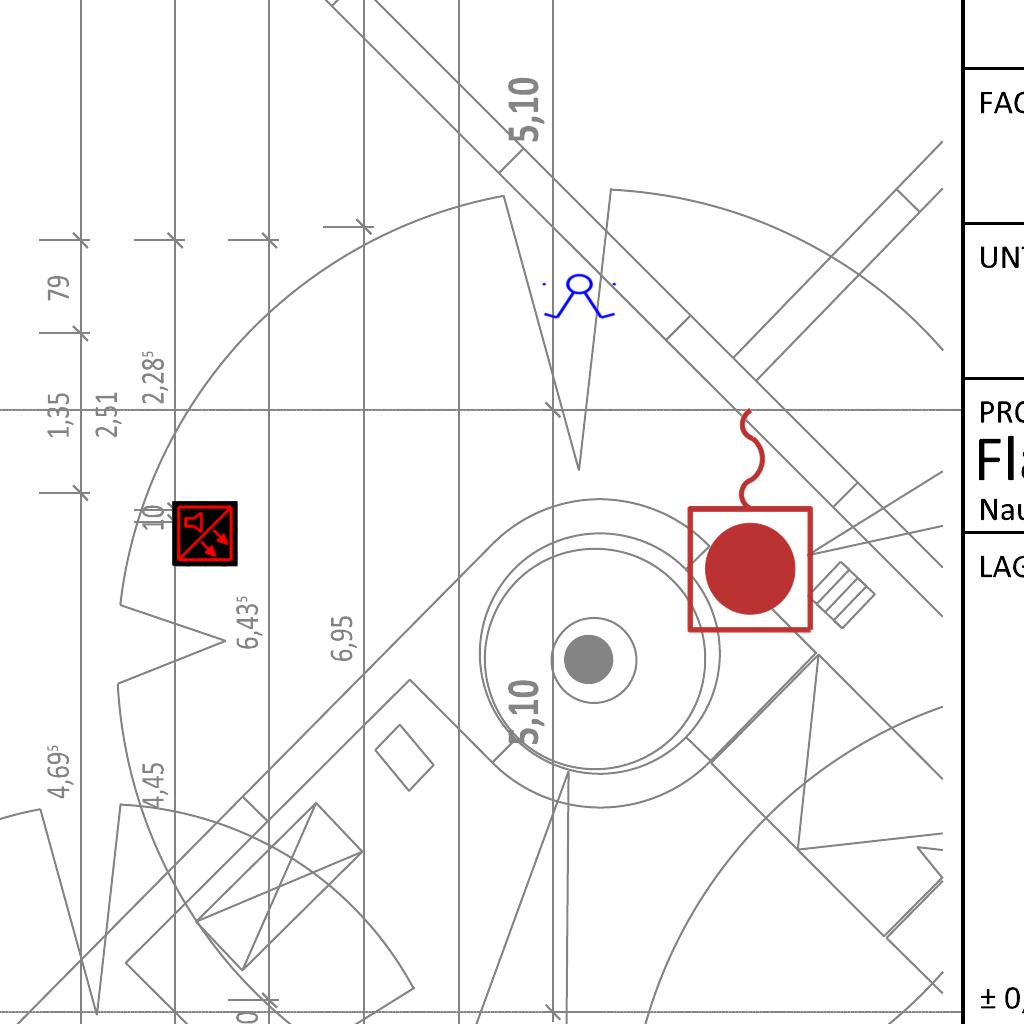OKW_Multisensormelder_(Kombination_optischer_Rauch-Kahlenmonoxid_Waerme-Melder): (172, 501, 238, 567)
Serienschalter: (538, 273, 622, 321)
Zugtaster: (680, 397, 824, 641)
